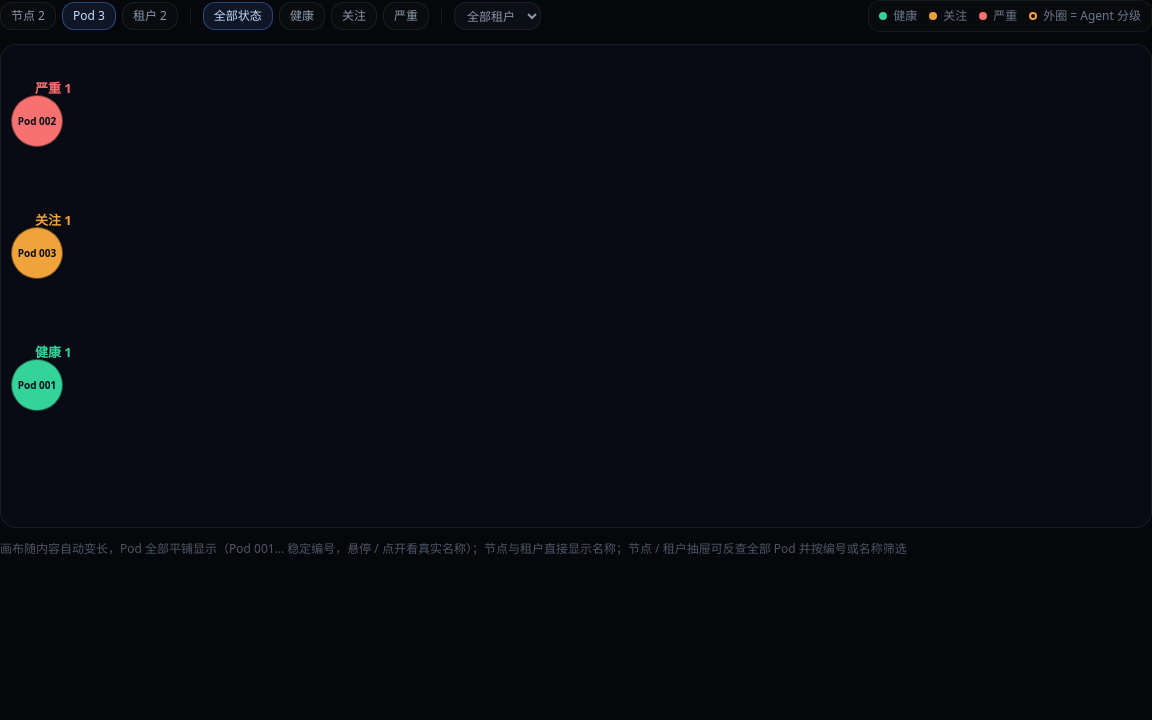
ClusterBubbleField › 租户视图按运行态着色并展示详情
Click the button "租户 2" at (150, 16), box [122,2,178,30]
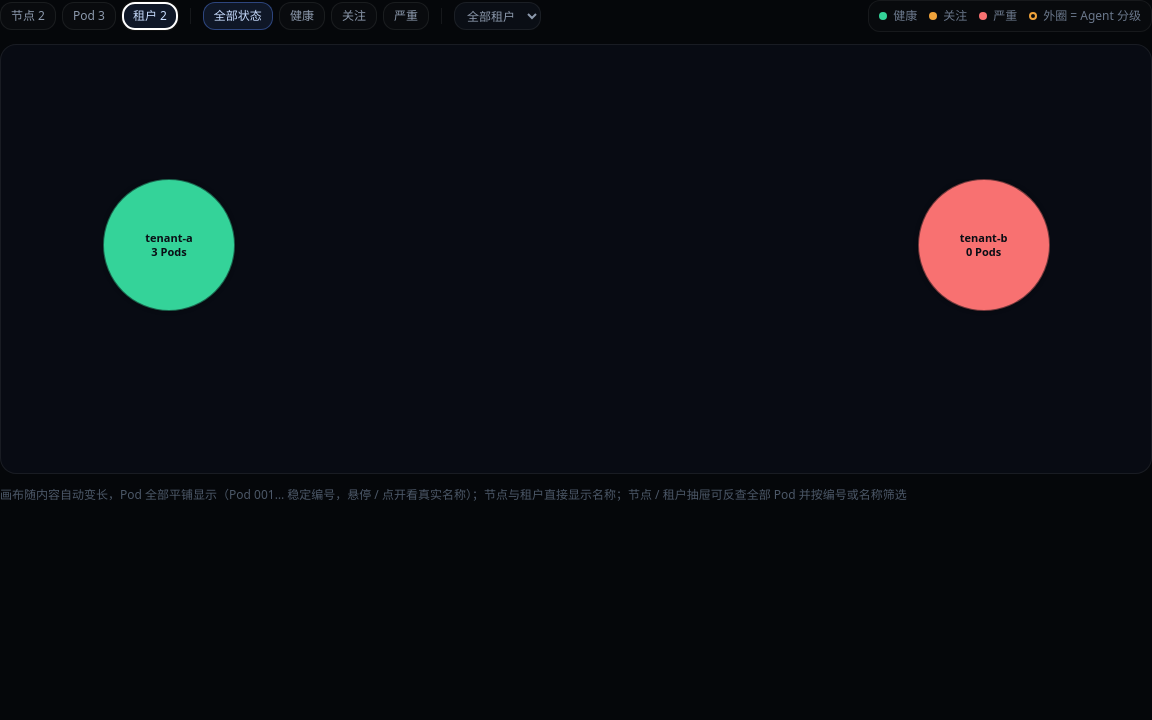
Expected: the button titled "tenant-b 租户 · 严重" is shown
Click the button titled "tenant-b 租户 · 严重" at (983, 245), box [917,179,1049,311]
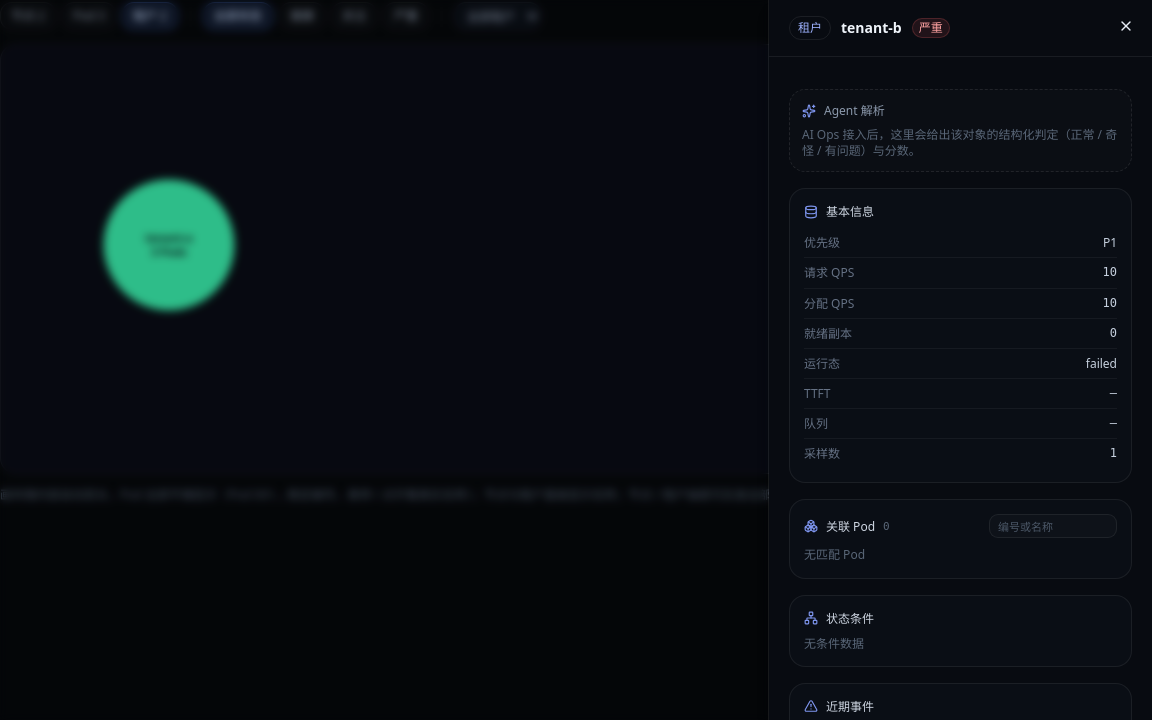
Expected: the text "请求 QPS" is shown, [804,264,854,282]
